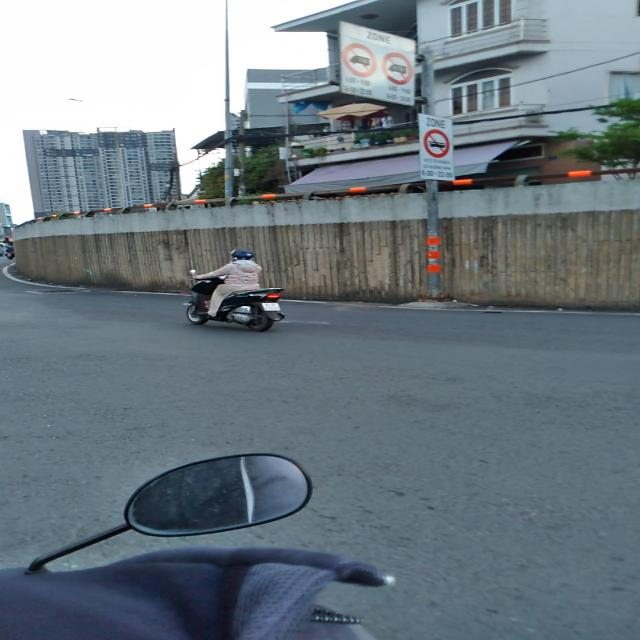Cam con lai: (342, 42, 377, 78), (381, 52, 414, 85), (424, 128, 451, 158)
